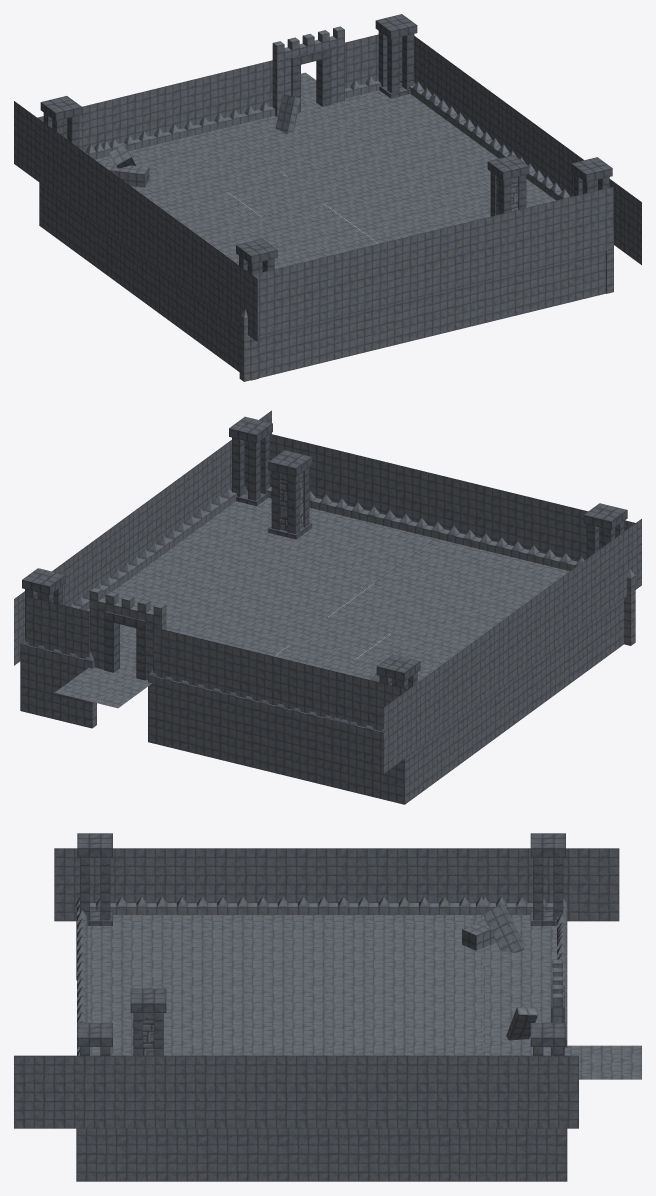
Rendered from StagePanel1.fbx.
The picture shows the model from 3 angles, top to bottom: view 1: azimuth 30°, elevation 25°; view 2: azimuth 150°, elevation 25°; view 3: azimuth 270°, elevation 25°; orthographic projection. The views are drawn at different scales.
Parts seen in each view (by area): view 1: Castle_Gate_4, Castle_Ground___Bright_8x8__24_, Castle_Ground___Bright_8x8__22_, Castle_Ground___Bright_8x8__21_, Castle_Ground___Bright_8x8__25_, Castle_Ground___Bright_8x8__23_, Castle_Ground___Bright_8x8__20_, Castle_Wall_14__5_, Castle_Wall_14__9_, Castle_Tower_1_Empty__2_, Castle_Wall_14__8_, Castle_Wall_14__11_ (+62 smaller); view 2: Castle_Wall_14__3_, Castle_Wall_14__4_, Castle_Wall_14__2_, Castle_Gate_4, Castle_Wall_14__13_, Castle_Wall_14__12_, Castle_Ground___Bright_8x8__25_, Castle_Ground___Bright_8x8__23_, Castle_Tower_1__1_, Castle_Ground___Bright_8x8__22_, Castle_Ground___Bright_8x8__21_, Castle_Tower_1_Empty__1_ (+62 smaller); view 3: Castle_Ground___Bright_8x8__2_, Castle_Ground___Bright_8x8__3_, Castle_Ground___Bright_8x8__6_, Castle_Ground___Bright_8x8__1_, Castle_Ground___Bright_8x8__4_, Castle_Ground___Bright_8x8__5_, Castle_Ground___Bright_8x8__7_, Castle_Wall_14__17_, Castle_Wall_14__14_, Castle_Wall_14__21_, Castle_Wall_14__15_, Castle_Wall_14__23_ (+53 smaller).
Boxes of the visible parts, x1,y1,x2,y2 form: Castle_Gate_4: [272, 26, 344, 116]; Castle_Ground___Bright_8x8__24_: [553, 186, 613, 264]; Castle_Ground___Bright_8x8__22_: [372, 230, 432, 308]; Castle_Ground___Bright_8x8__21_: [312, 245, 372, 322]; Castle_Ground___Bright_8x8__25_: [493, 201, 553, 278]; Castle_Ground___Bright_8x8__23_: [433, 216, 492, 293]; Castle_Ground___Bright_8x8__20_: [252, 260, 312, 336]; Castle_Wall_14__5_: [239, 309, 311, 381]; Castle_Wall_14__9_: [364, 294, 432, 352]; Castle_Tower_1_Empty__2_: [375, 14, 417, 98]; Castle_Wall_14__8_: [485, 264, 553, 322]; Castle_Wall_14__11_: [425, 279, 492, 336]; Castle_Wall_14__3_: [148, 669, 219, 759]; Castle_Wall_14__4_: [212, 688, 284, 775]; Castle_Wall_14__2_: [20, 637, 96, 728]; Castle_Gate_4: [89, 587, 166, 680]; Castle_Wall_14__13_: [332, 717, 404, 804]; Castle_Wall_14__12_: [276, 704, 348, 790]; Castle_Ground___Bright_8x8__25_: [316, 445, 380, 513]; Castle_Ground___Bright_8x8__23_: [380, 460, 444, 528]; Castle_Tower_1__1_: [268, 450, 312, 539]; Castle_Ground___Bright_8x8__22_: [444, 476, 507, 544]; Castle_Ground___Bright_8x8__21_: [508, 492, 571, 559]; Castle_Tower_1_Empty__1_: [229, 416, 272, 506]; Castle_Ground___Bright_8x8__2_: [417, 1055, 498, 1128]; Castle_Ground___Bright_8x8__3_: [336, 1055, 417, 1128]; Castle_Ground___Bright_8x8__6_: [94, 1055, 175, 1128]; Castle_Ground___Bright_8x8__1_: [498, 1055, 578, 1128]; Castle_Ground___Bright_8x8__4_: [256, 1055, 336, 1128]; Castle_Ground___Bright_8x8__5_: [175, 1055, 255, 1128]; Castle_Ground___Bright_8x8__7_: [14, 1055, 94, 1128]; Castle_Wall_14__17_: [476, 1128, 566, 1181]; Castle_Wall_14__14_: [76, 1128, 166, 1181]; Castle_Wall_14__21_: [237, 1128, 328, 1181]; Castle_Wall_14__15_: [157, 1128, 247, 1181]; Castle_Wall_14__23_: [318, 1128, 408, 1181].
Size of the model in its own units: 3688 by 1213 by 4669.
1 material, 1 textured.
